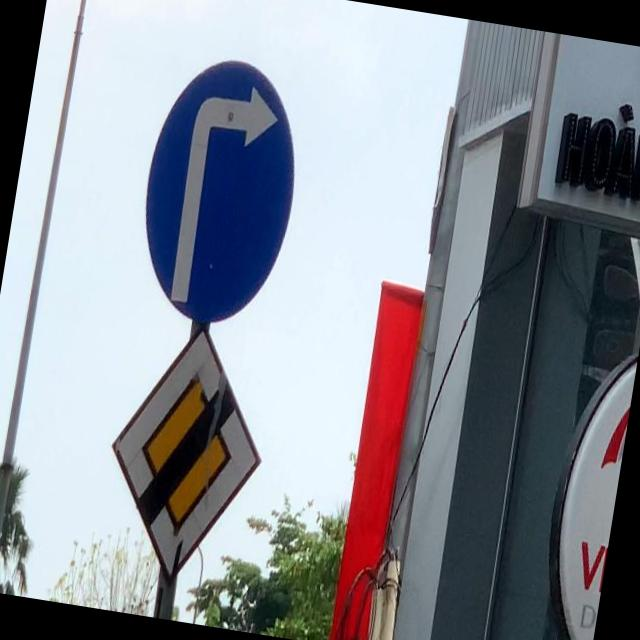R-301d: (128, 49, 312, 333)
